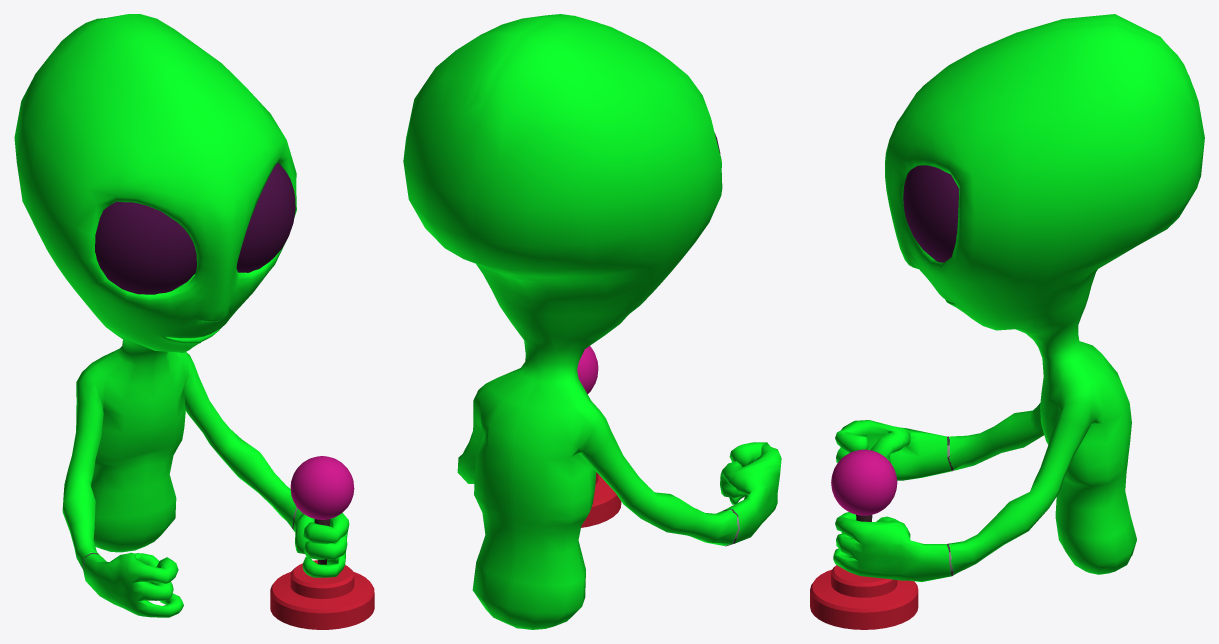
Rendered from AlienDraft.obj.
3 views of the same model, side by side, from view 1: azimuth 30°, elevation 25°; view 2: azimuth 150°, elevation 25°; view 3: azimuth 270°, elevation 25° (orthographic). The views are drawn at different scales.
Visible parts, largest first — view 1: Alien_obj.001, R3_Cylinder.003, R1_Sphere.001; view 2: Alien_obj.001, R3_Cylinder.003, R1_Sphere.001; view 3: Alien_obj.001, R3_Cylinder.003, R1_Sphere.001.
Boxes of the visible parts, box(x1,y1,x2,y2) form: Alien_obj.001: box(14, 14, 349, 617); R3_Cylinder.003: box(270, 560, 374, 629); R1_Sphere.001: box(290, 456, 354, 519); Alien_obj.001: box(403, 14, 781, 629); R3_Cylinder.003: box(581, 472, 621, 527); R1_Sphere.001: box(577, 346, 598, 393); Alien_obj.001: box(833, 14, 1204, 581); R3_Cylinder.003: box(810, 565, 918, 629); R1_Sphere.001: box(831, 449, 897, 515).
Size of the model in its own units: 8.84 by 18.12 by 11.92.
